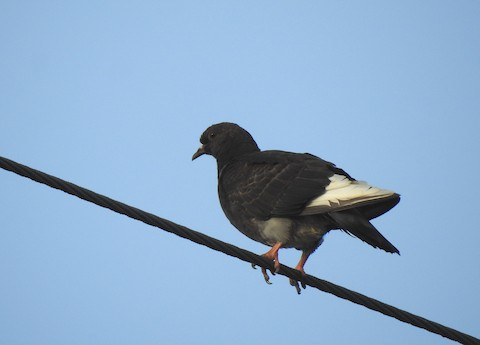pigeon: (191, 113, 410, 295)
